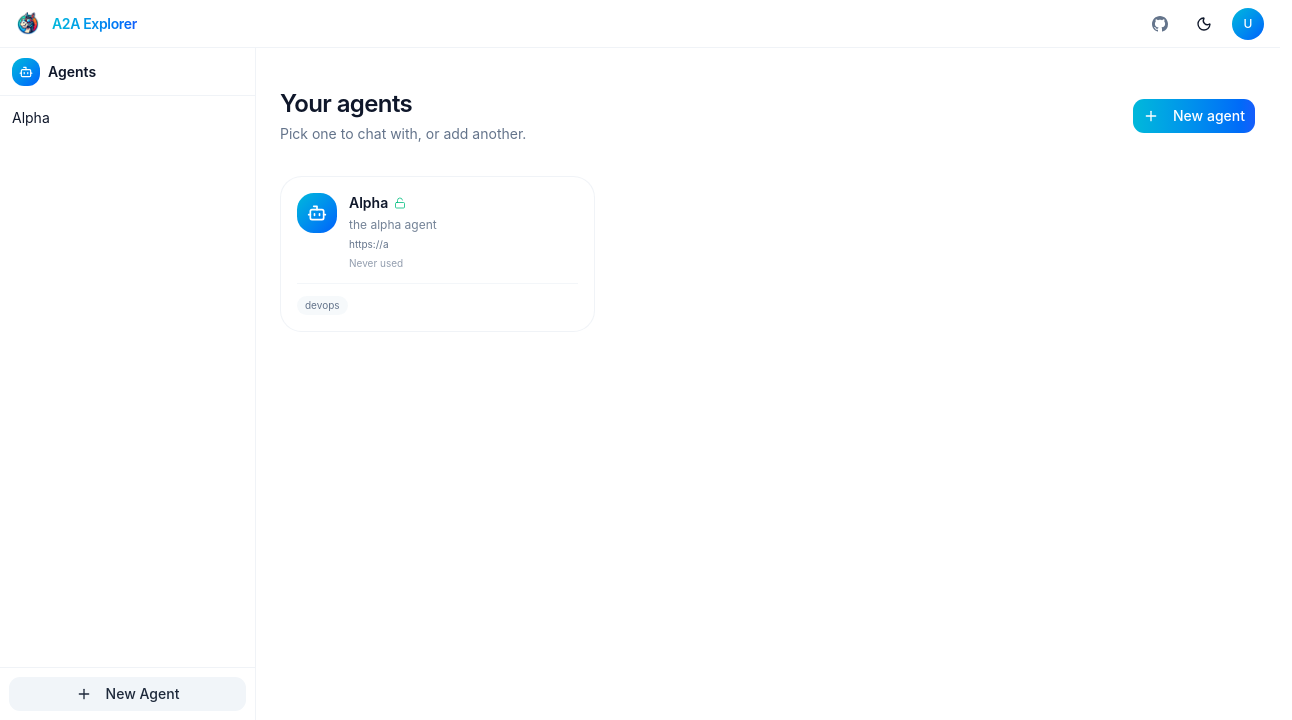
Test: HomePage › expanding SelectedAgent fetches and renders the card
The width and height of the screenshot is (1292, 720).
Click the button "Alpha the alpha agent https://a Never used devops". click: (317, 213)
box: [280, 176, 595, 332]
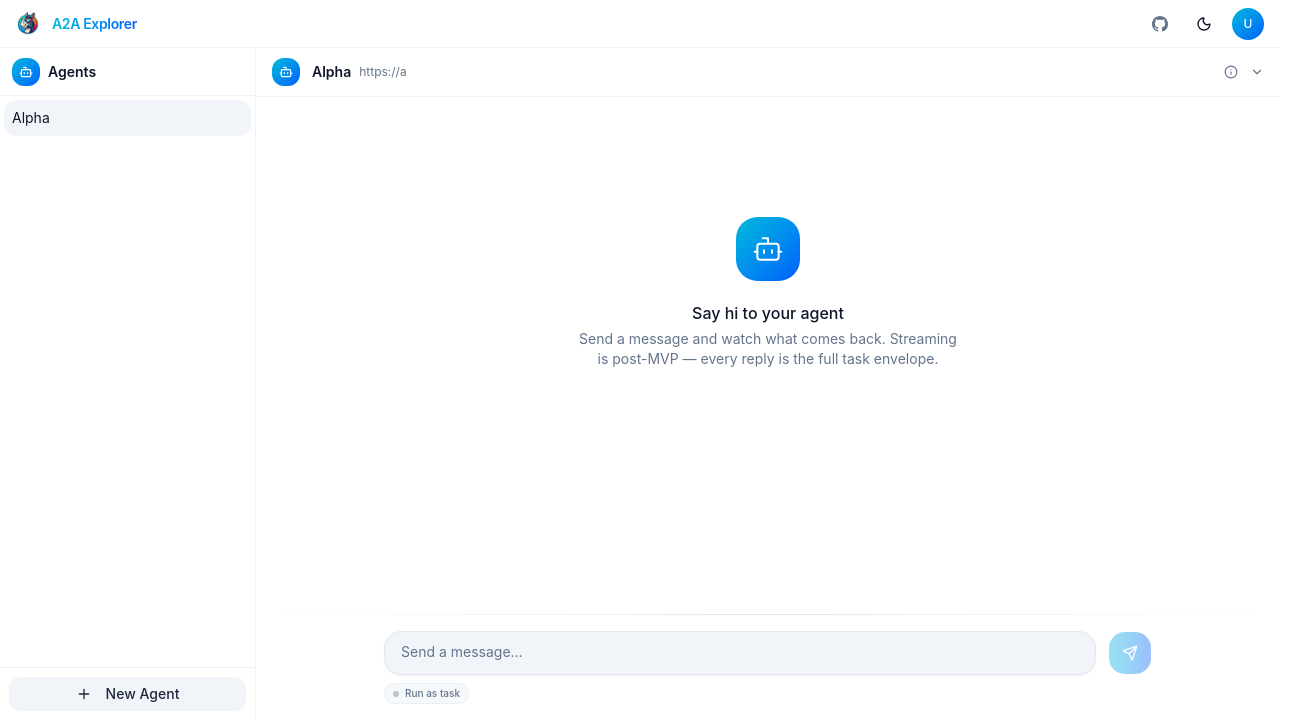
Click the button "Alpha https://a". click: (332, 72)
box: [256, 48, 1280, 96]
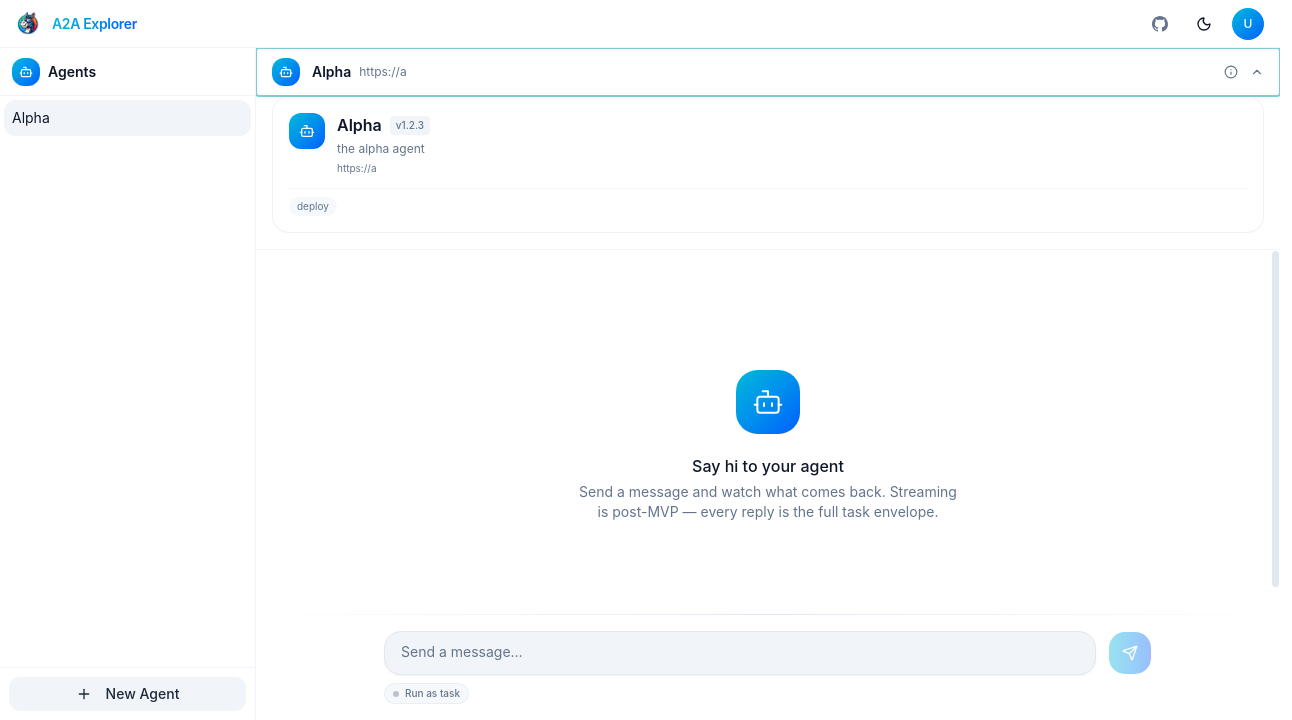
Expected: the text "v1.2.3" is shown, [390, 116, 430, 134]
